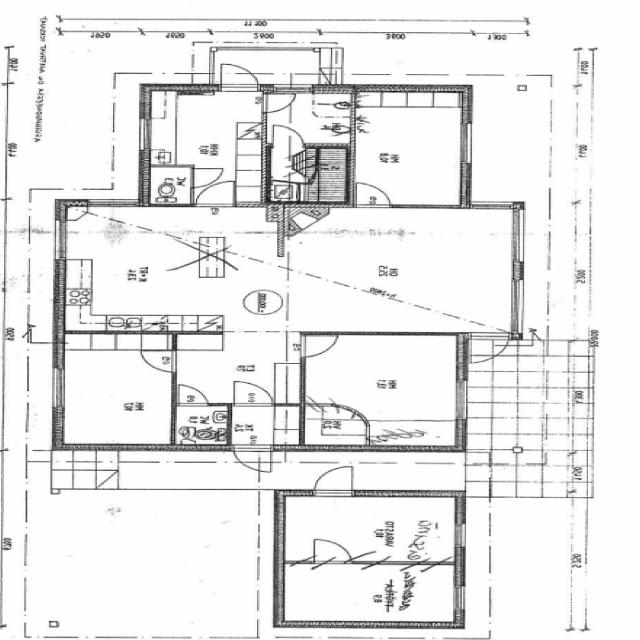door: (471, 332, 510, 364), (315, 468, 352, 498), (222, 62, 258, 92), (235, 444, 271, 473), (196, 181, 233, 207), (302, 336, 342, 358), (237, 381, 272, 406), (138, 351, 177, 372), (356, 184, 389, 207), (274, 125, 303, 148), (191, 169, 225, 188), (179, 385, 209, 406), (263, 95, 295, 112)
